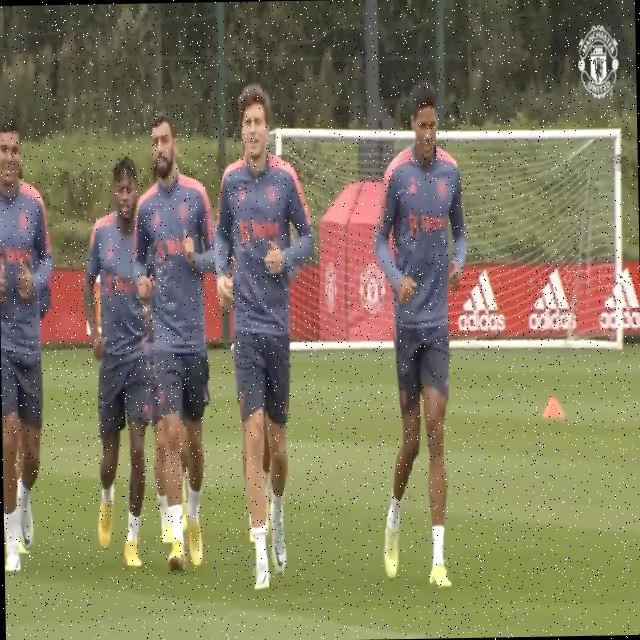Adidas: (456, 267, 504, 334), (528, 269, 577, 333), (598, 267, 640, 332)
